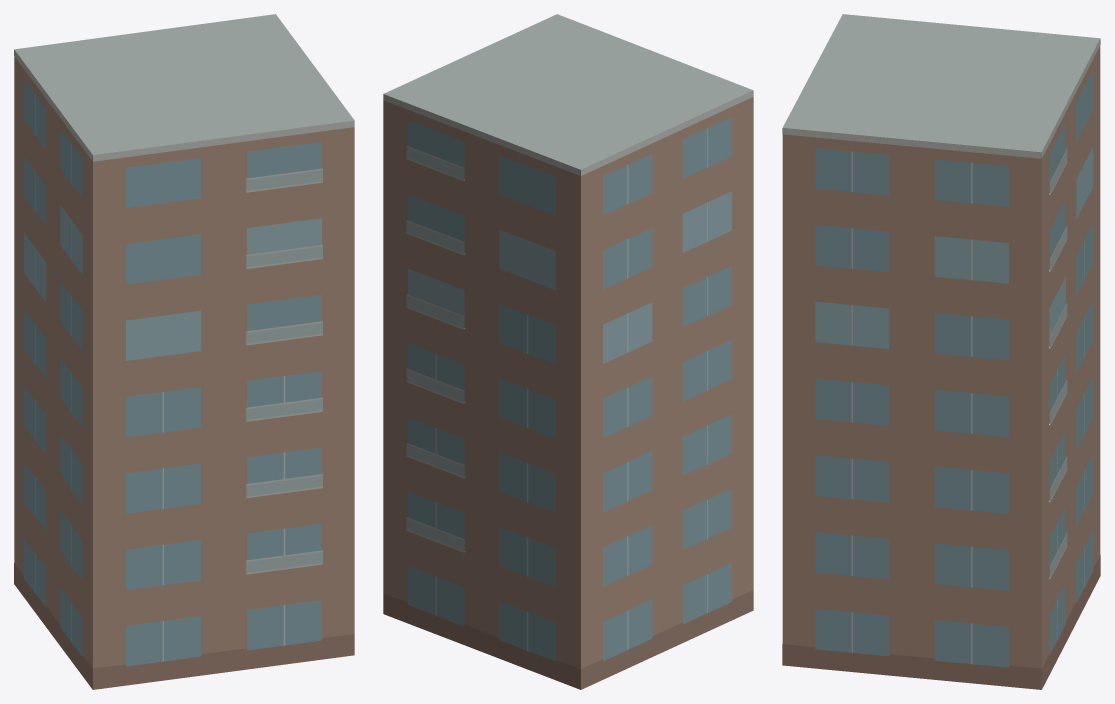
File: survey-upis-32652854.glb
The picture shows the model from 3 angles, left to right: view 1: azimuth 30°, elevation 25°; view 2: azimuth 150°, elevation 25°; view 3: azimuth 270°, elevation 25°; orthographic projection. The views are drawn at different scales.
Visible parts, largest first — view 1: survey-upis-32652854.tmp; view 2: survey-upis-32652854.tmp; view 3: survey-upis-32652854.tmp.
Boxes of the visible parts, box(x1,y1,x2,y2) form: survey-upis-32652854.tmp: box(14, 14, 354, 689); survey-upis-32652854.tmp: box(383, 14, 753, 689); survey-upis-32652854.tmp: box(782, 14, 1100, 689).
Size of the model in its own units: 11.1 by 20.1 by 10.79.
